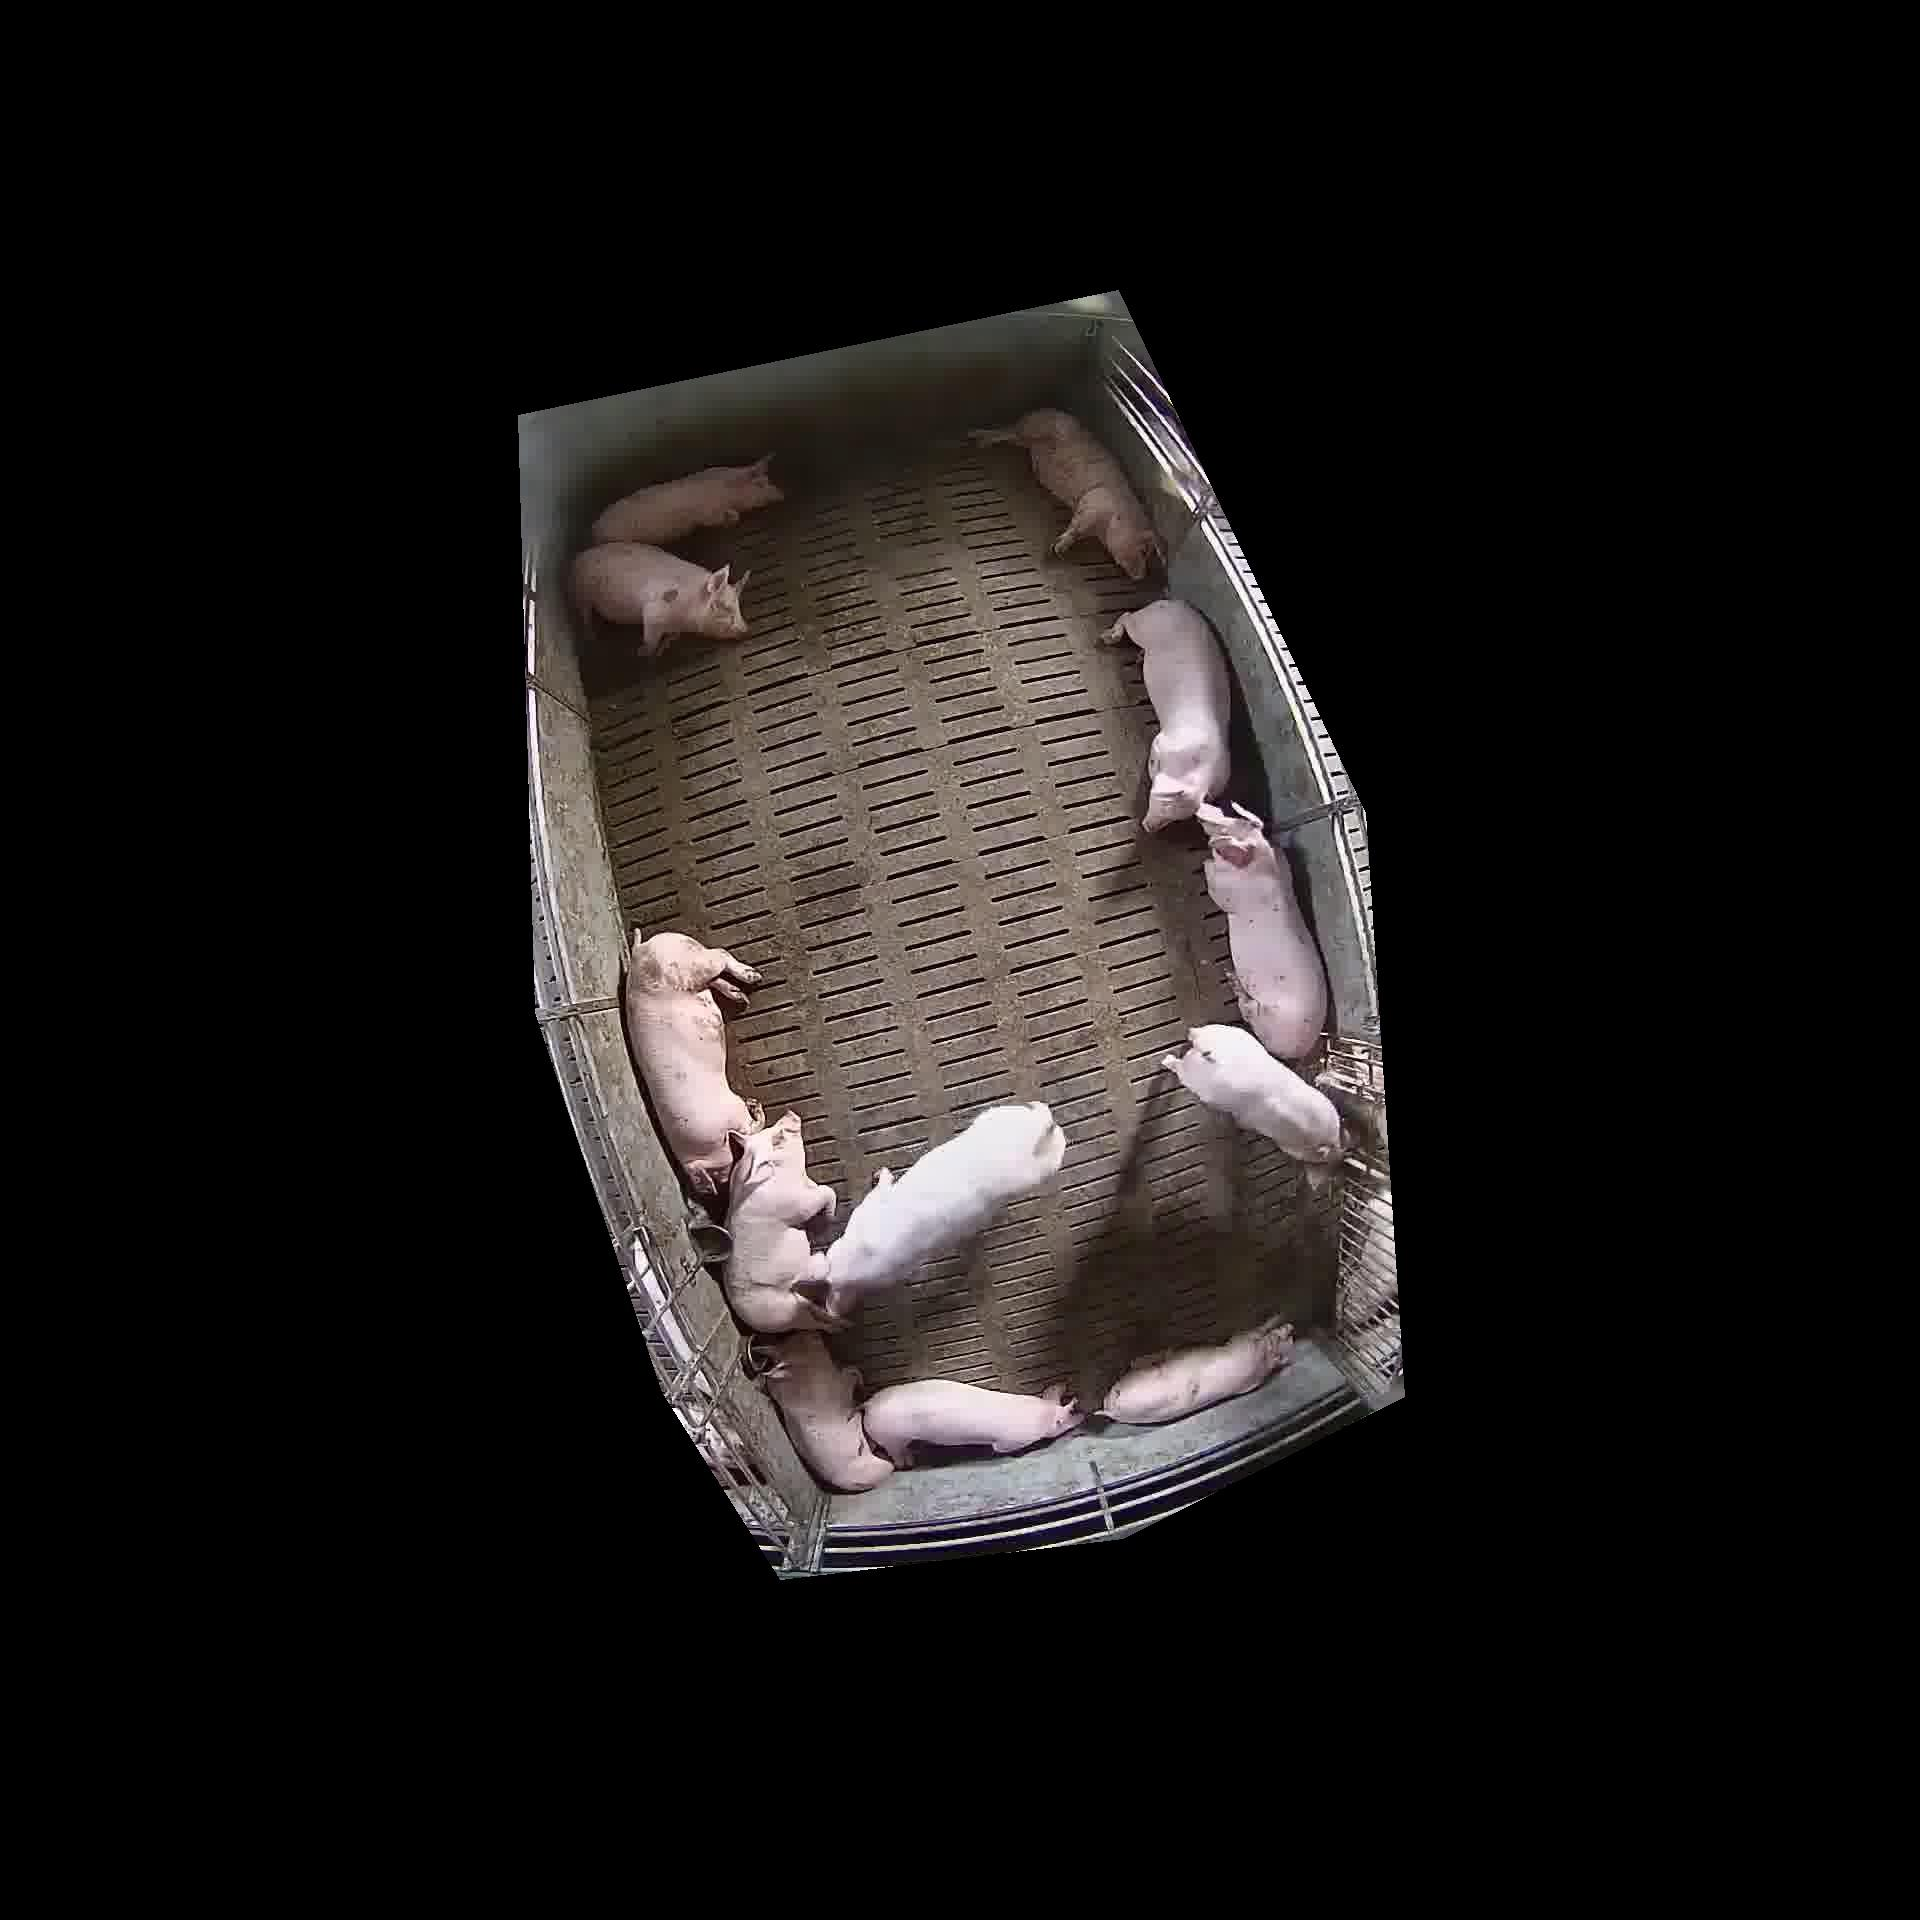pig: (812, 1102, 1065, 1315), (624, 932, 761, 1196), (1196, 804, 1327, 1057), (971, 408, 1160, 578), (1102, 600, 1231, 832), (723, 1111, 840, 1333), (1162, 1023, 1342, 1164), (754, 1331, 893, 1491), (1102, 1315, 1294, 1424), (571, 542, 747, 654), (863, 1378, 1083, 1466), (593, 455, 782, 545)
